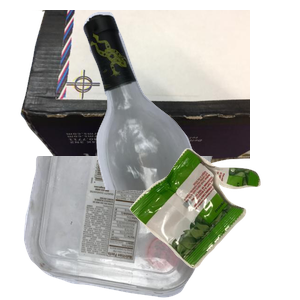cardboard: (18, 10, 258, 171)
glass: (81, 10, 300, 190)
plastic: (21, 156, 226, 300)
trash: (127, 146, 300, 300)
